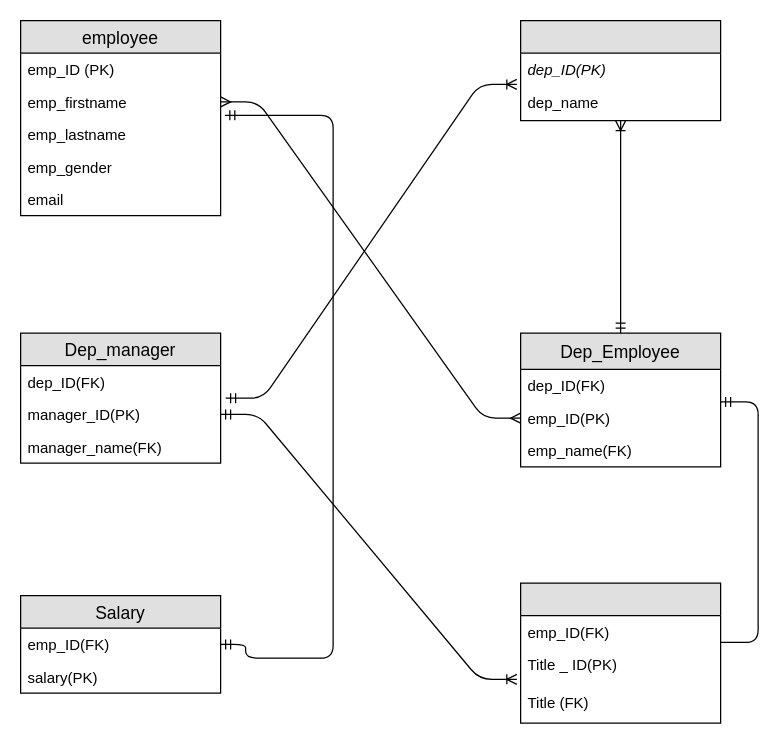
Image size: 779x744. Some labels were removed from this diagram. The shapes that lost their labels are listed below. From the top down, each one's box as (x1, y1, x2, y2) in pixels, then its label:
(519, 19, 721, 121): Department
(519, 582, 721, 723): Titles
